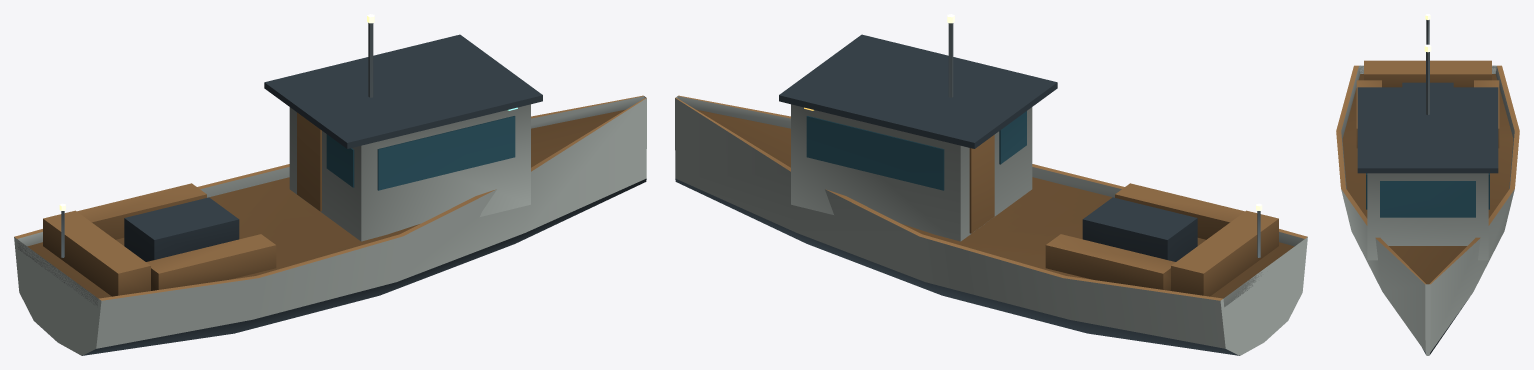
File: harbour-launch.lod2.glb
The picture shows the model from 3 angles, left to right: view 1: azimuth 30°, elevation 25°; view 2: azimuth 150°, elevation 25°; view 3: azimuth 270°, elevation 25°; orthographic projection. The views are drawn at different scales.
Parts seen in each view (by area): view 1: structure; view 2: structure; view 3: structure.
Boxes of the visible parts, x1,y1,x2,y2 form: structure: (14,14,646,355); structure: (675,14,1307,355); structure: (1336,14,1519,355).
Bounding box in the file's own units: 9 × 3.84 × 2.88.
